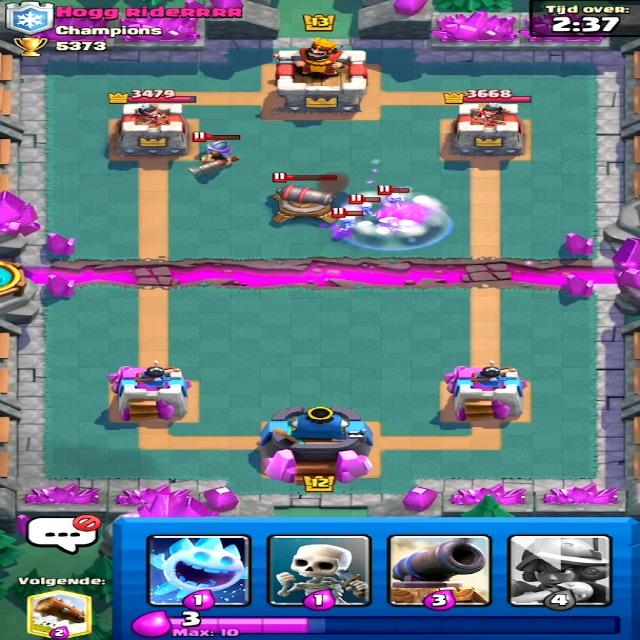Cannon_Card: (384, 535, 492, 607)
Enemy_Cannon_Troop: (268, 179, 339, 225)
Enemy_Musketeer_Troop: (193, 132, 241, 177)
Ice_Spirit_Card: (146, 535, 252, 608)
Musketeer_Card: (506, 534, 606, 605)
Skeleton_Card: (268, 534, 369, 608)
